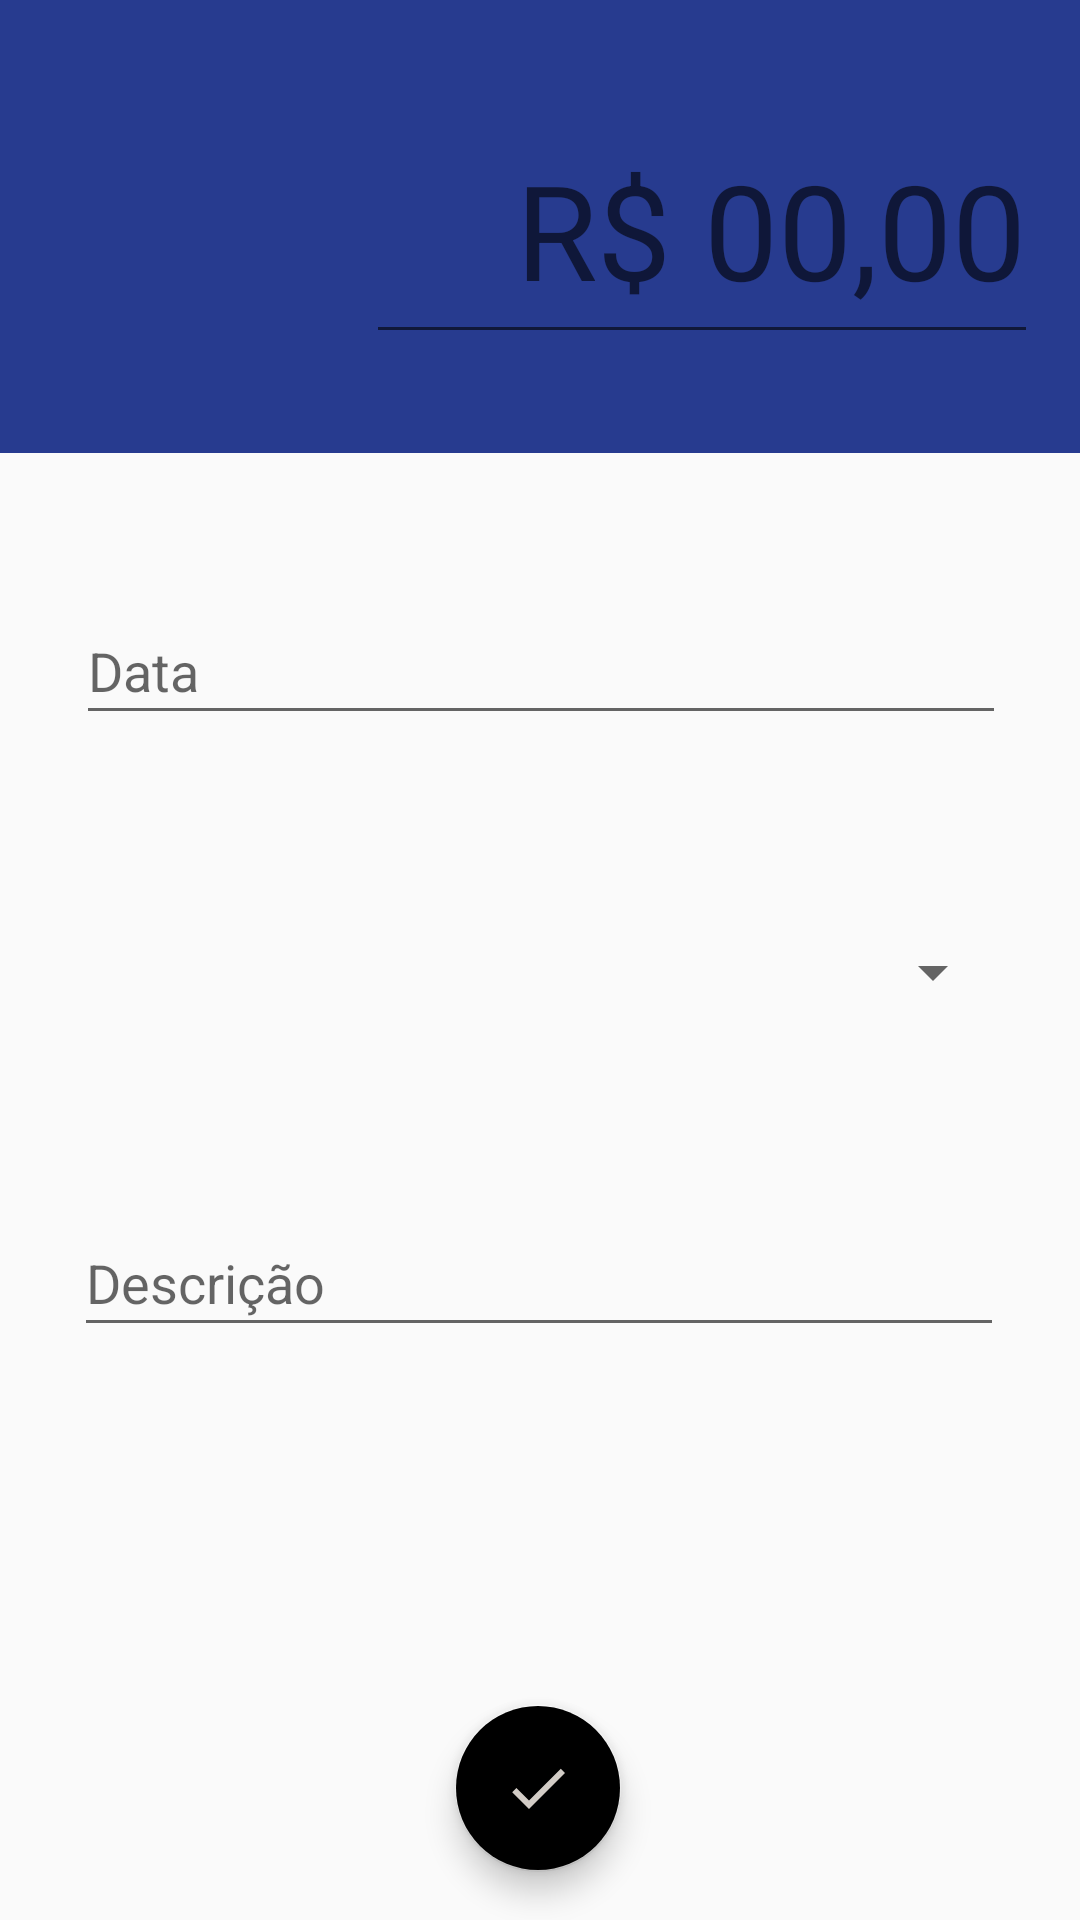

Where icons sit on this 1080x1920 app screen, as (x1, y1, x2, y2):
done: (454, 1706, 622, 1872)
